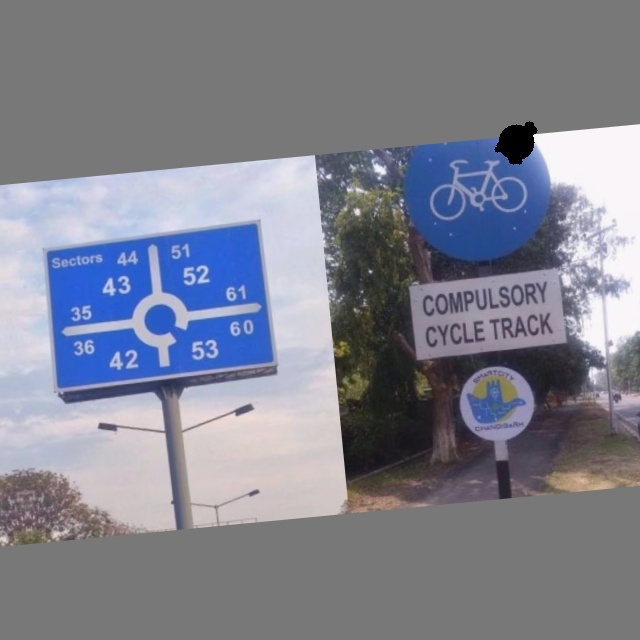Compulsory_Cycle_Track: (405, 134, 547, 266)
